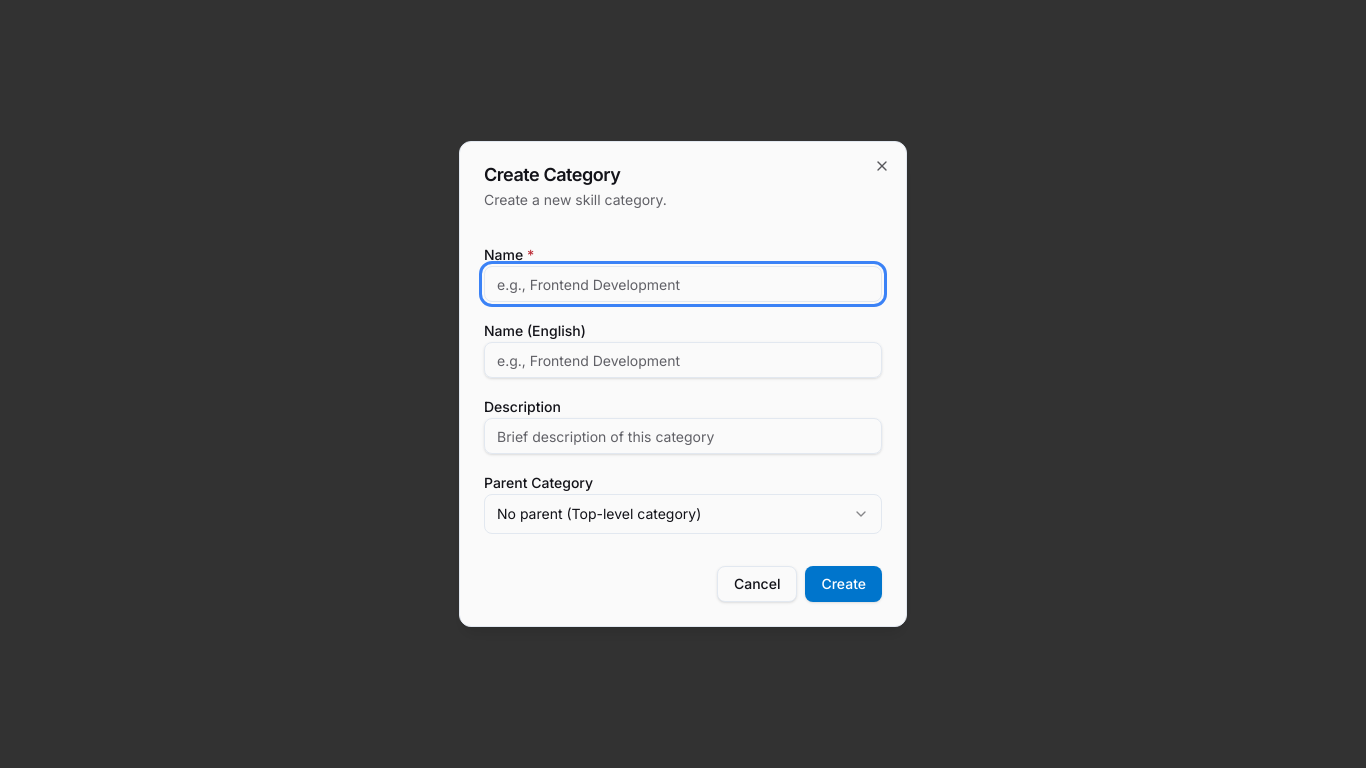
Test: CategoryFormDialog › validates required name field
Note: Click submit with empty name
Click the button "Create" at (844, 584), box x1=805 y1=566 x2=882 y2=602
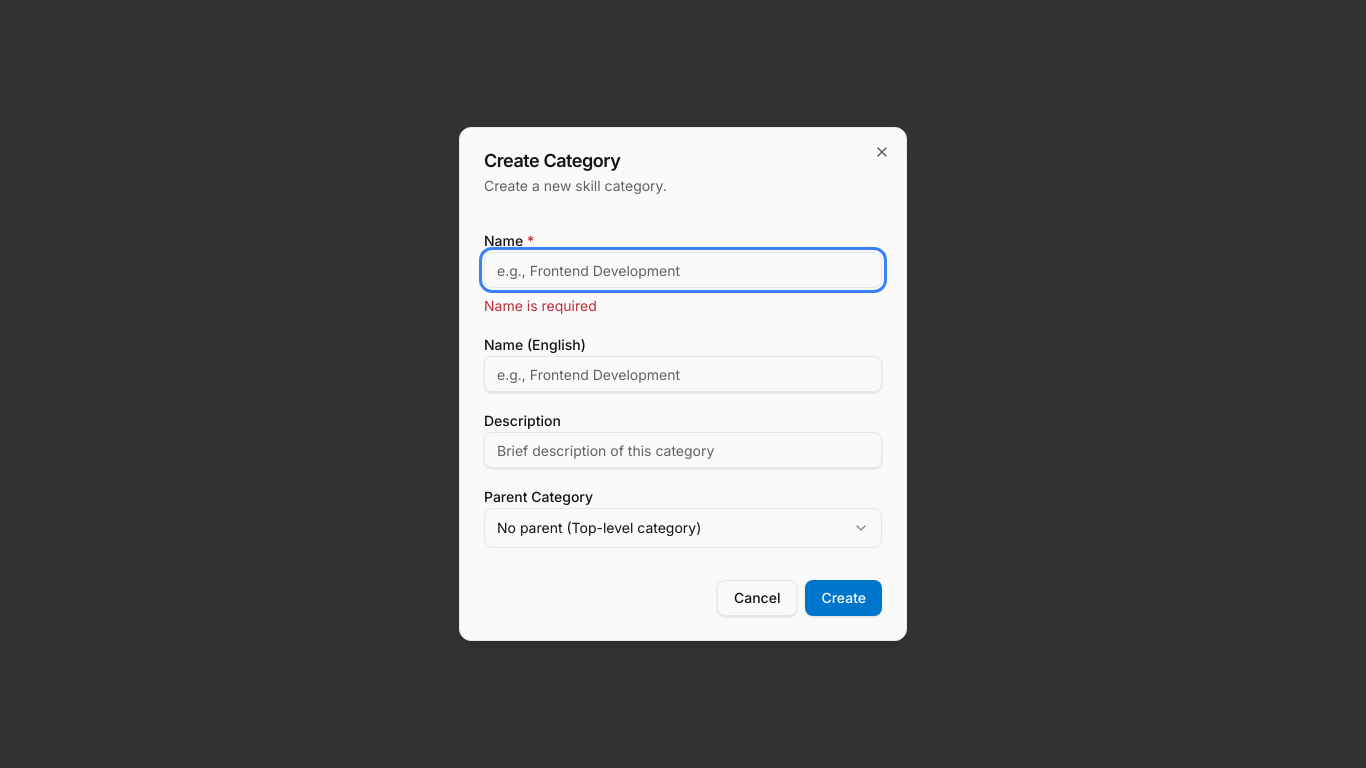
Expected: the text "Name is required" is shown, x1=484 y1=297 x2=597 y2=314
